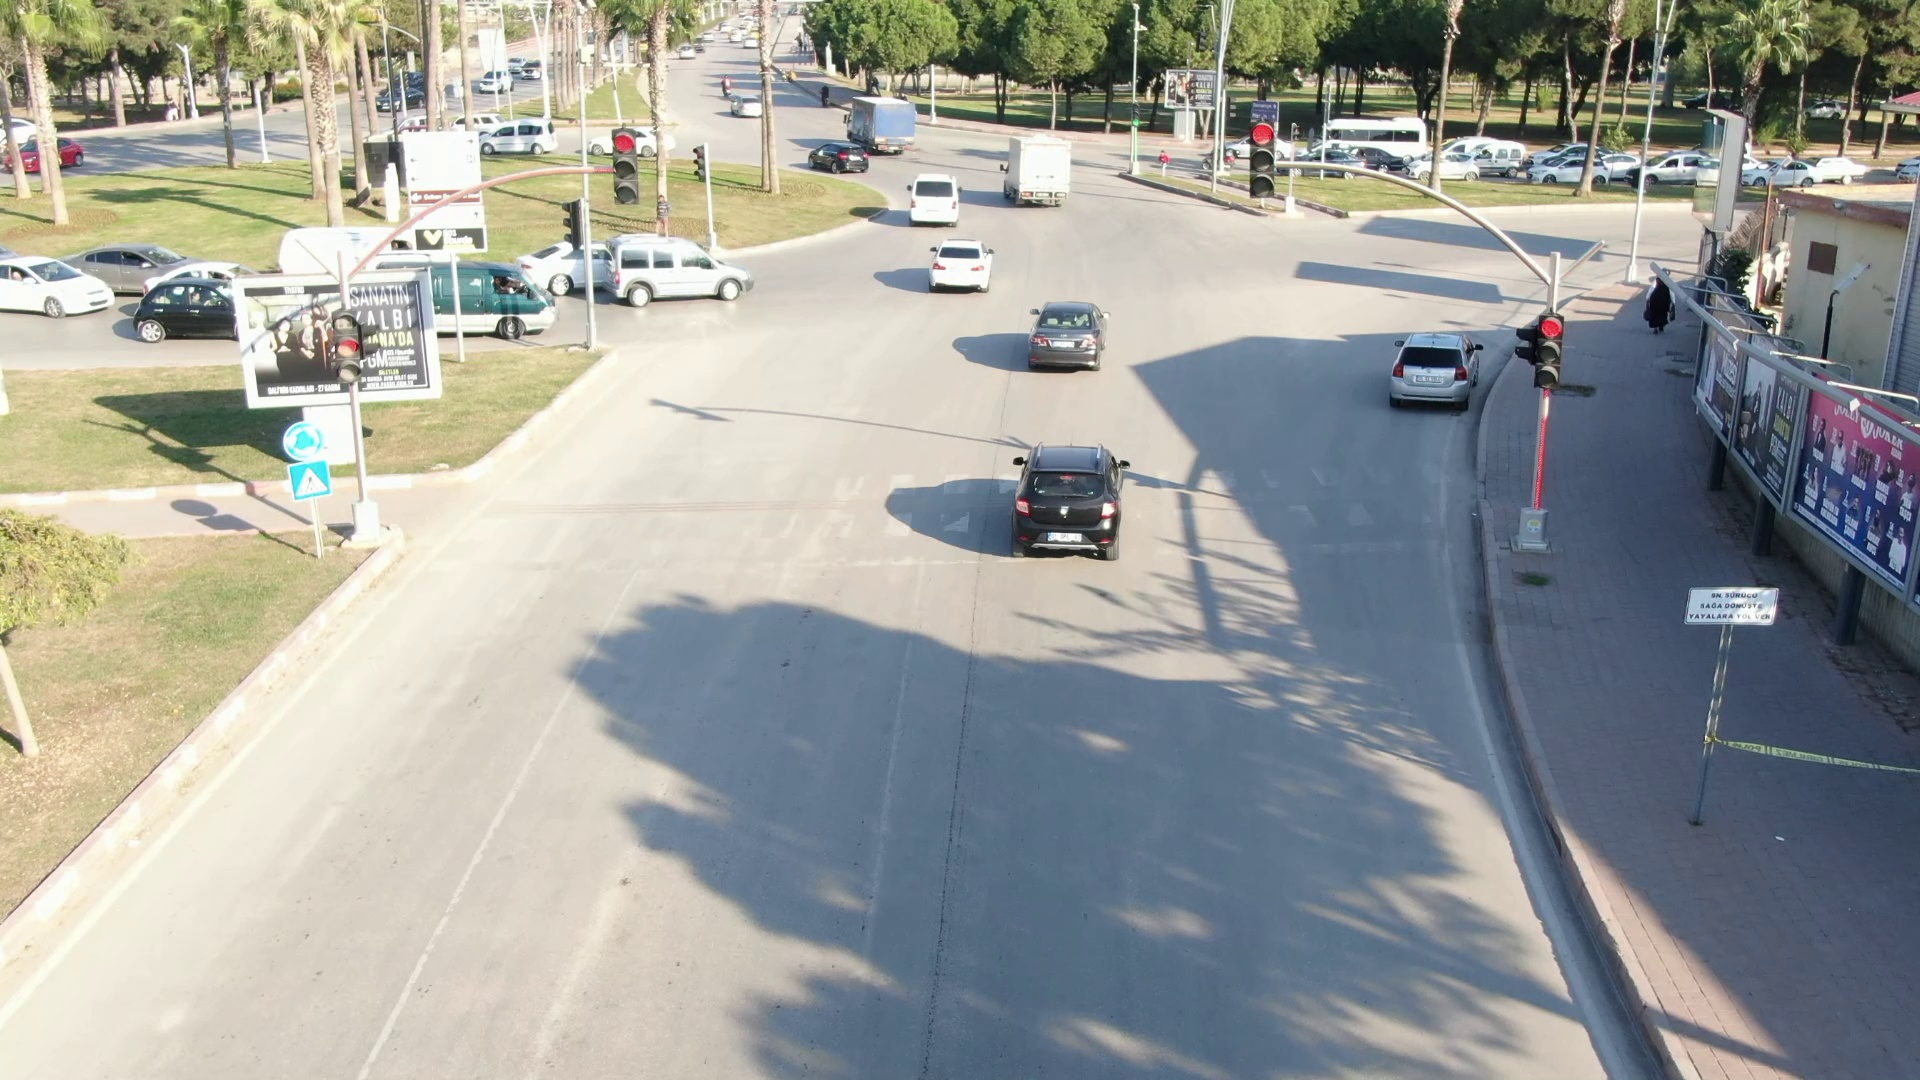car: (985, 431, 1153, 576), (601, 227, 779, 321), (1007, 282, 1129, 382), (1374, 319, 1486, 414), (988, 129, 1096, 220), (831, 88, 925, 162), (916, 232, 1007, 301), (899, 167, 978, 235), (801, 133, 879, 184)
person: (1633, 260, 1680, 326)
